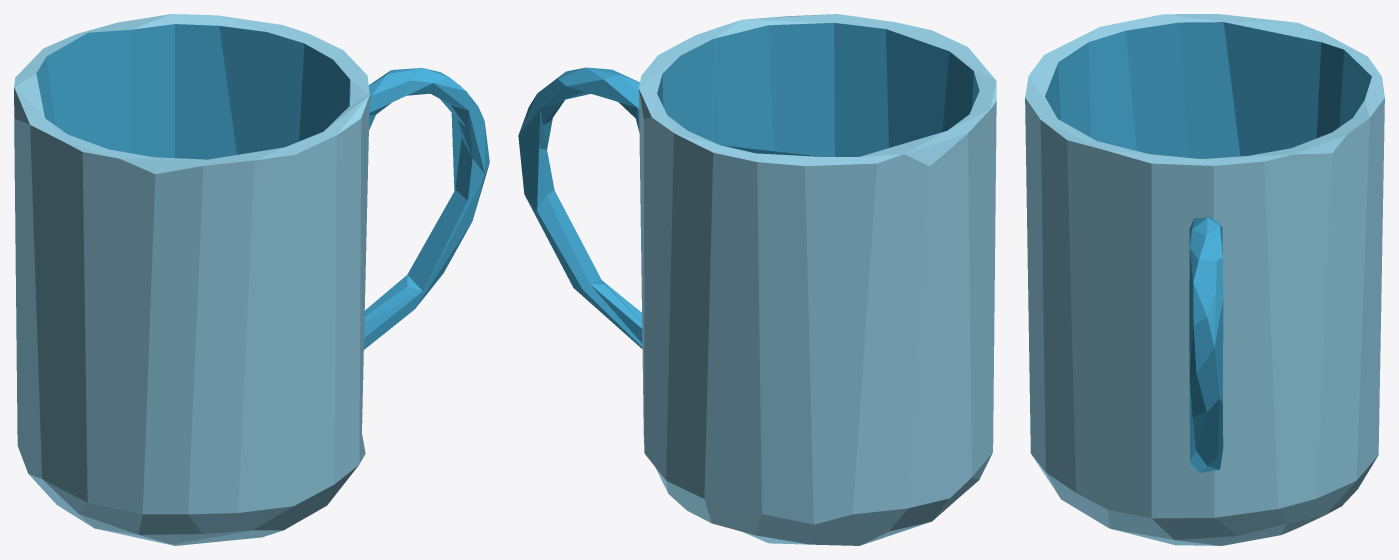
Rendered from Cup01Blue.fbx.
3 renders of one model, left to right at view 1: azimuth 30°, elevation 25°; view 2: azimuth 150°, elevation 25°; view 3: azimuth 270°, elevation 25°, orthographic.
Visible parts, largest first — view 1: Cup01LowPolyBlue; view 2: Cup01LowPolyBlue; view 3: Cup01LowPolyBlue.
Part boxes in pixels (x1,y1,x2,y2): Cup01LowPolyBlue: [14, 14, 489, 545]; Cup01LowPolyBlue: [518, 14, 996, 545]; Cup01LowPolyBlue: [1025, 14, 1384, 545].
Bounding box in the file's own units: 11.35 × 9.93 × 7.83.
